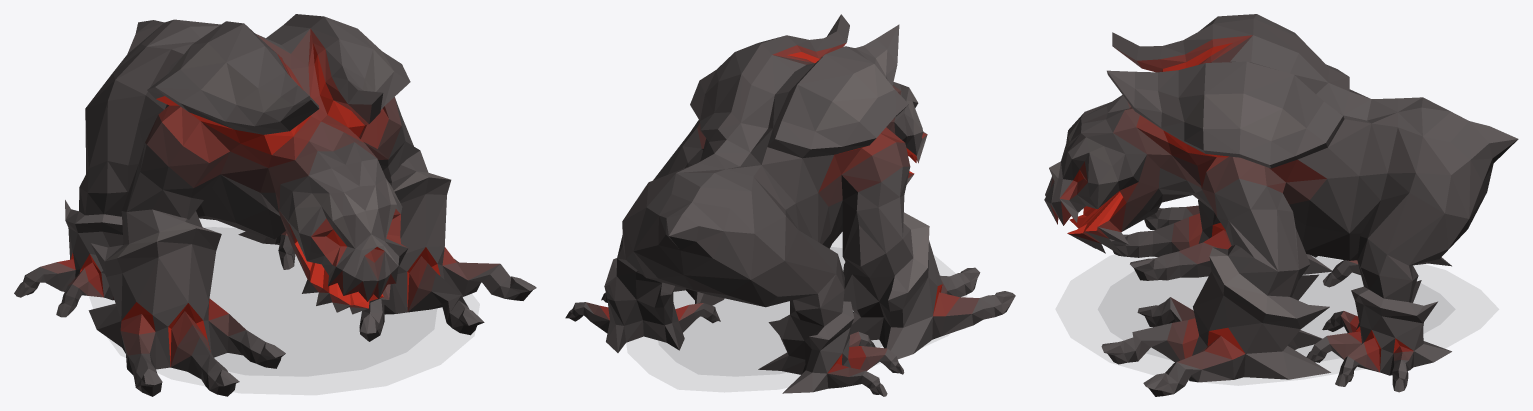
The model's file is jad.glb.
The picture shows the model from 3 angles, left to right: view 1: azimuth 30°, elevation 25°; view 2: azimuth 150°, elevation 25°; view 3: azimuth 270°, elevation 25°; orthographic projection. The views are drawn at different scales.
Size of the model in its own units: 663 by 511 by 738.
2 materials, 2 textured.
